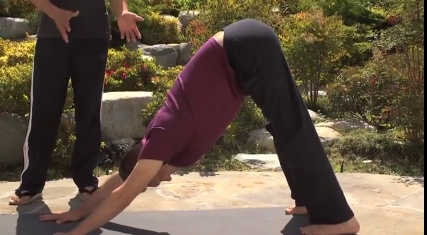person: (77, 15, 364, 233), (7, 0, 269, 235), (3, 0, 112, 211)
